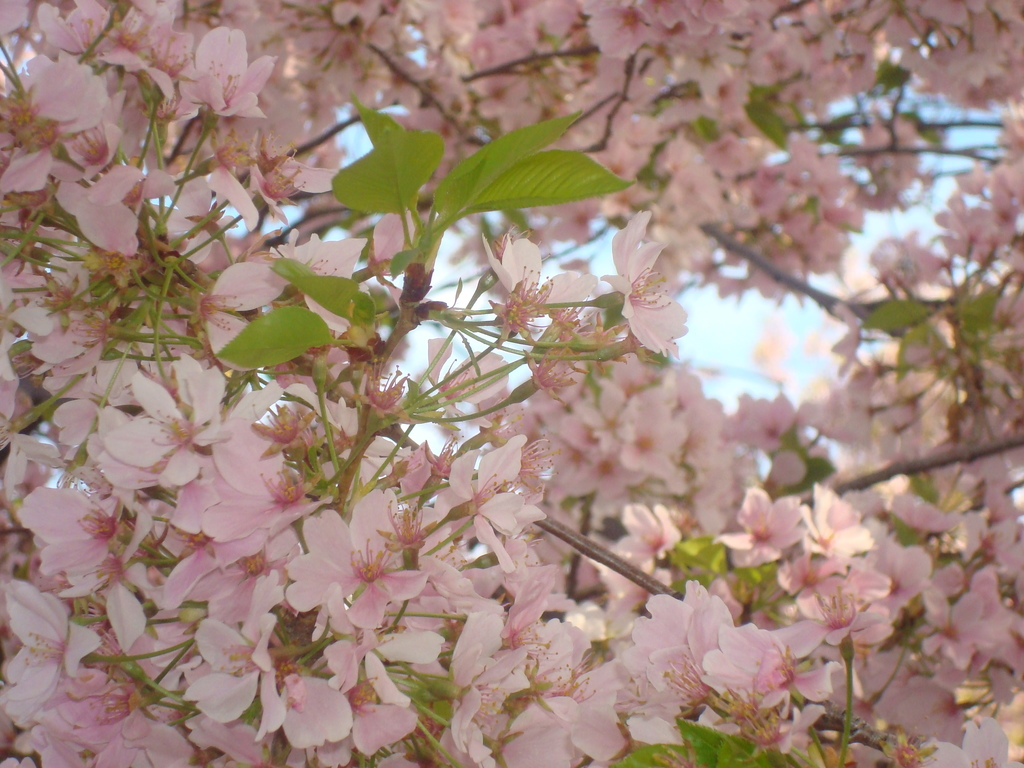Tree: (4, 0, 962, 768)
